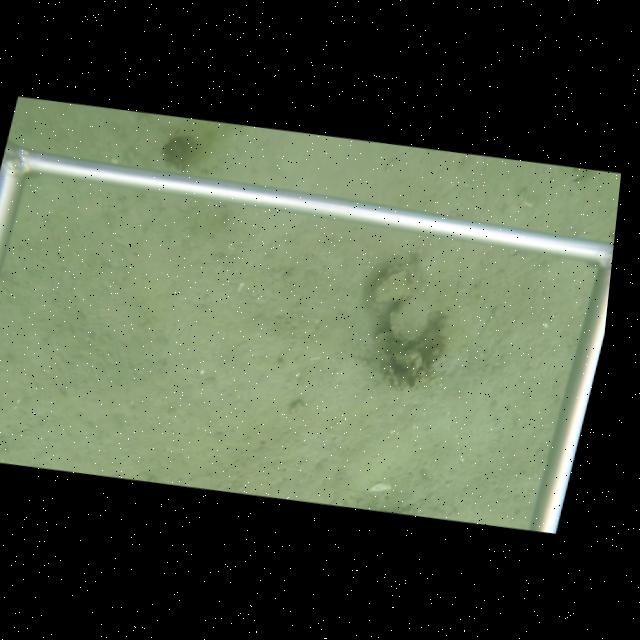Oyster-Closed: (372, 264, 414, 304)
Oyster-Indeterminate: (389, 293, 433, 342)
